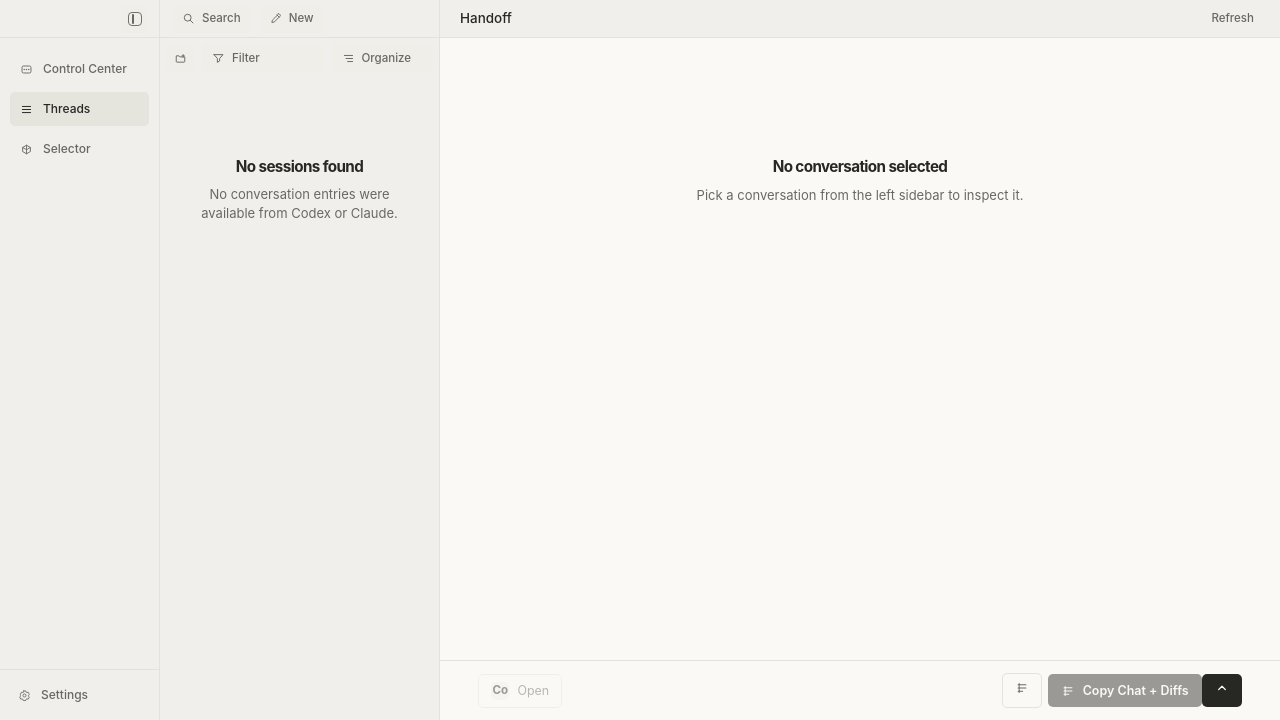
Handoff App › highlights completed unseen rows in the main Control Center and clears the state after open
The width and height of the screenshot is (1280, 720).
Click the button "Control Center": (80, 69) [10,52,149,86]
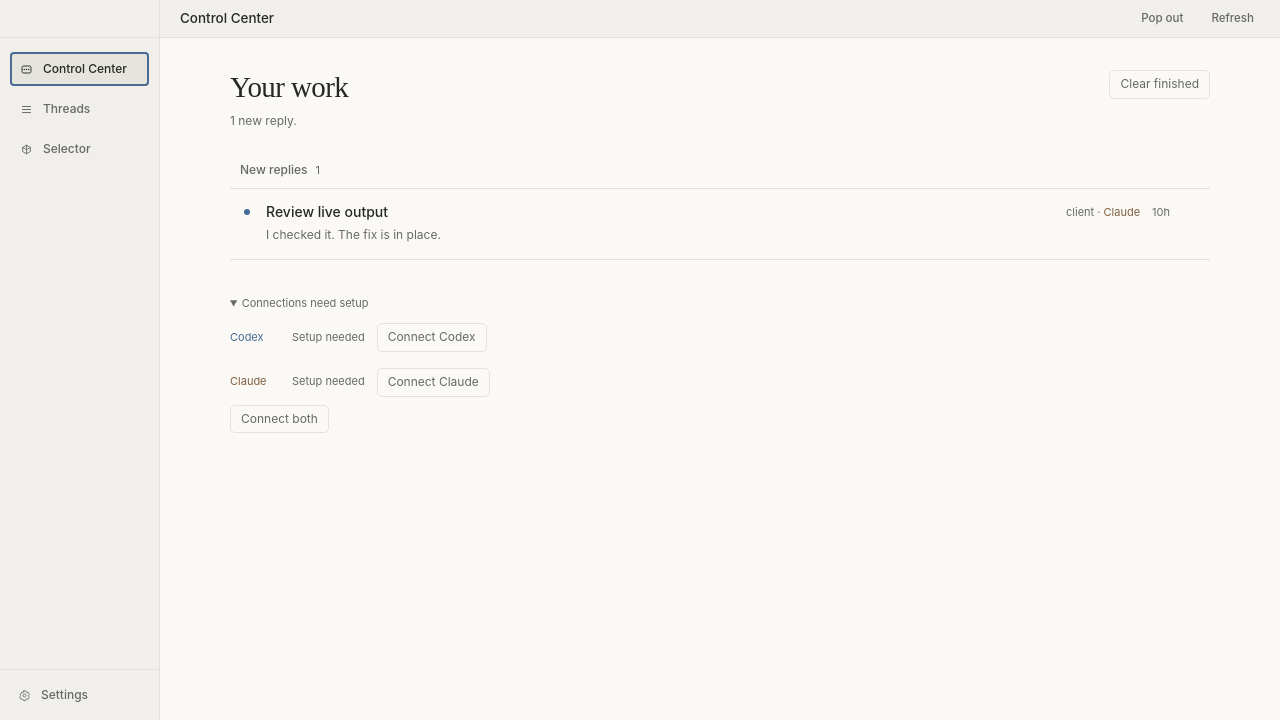
Click the button with aria-label "Open Review live output": (327, 211) [230,189,1210,259]
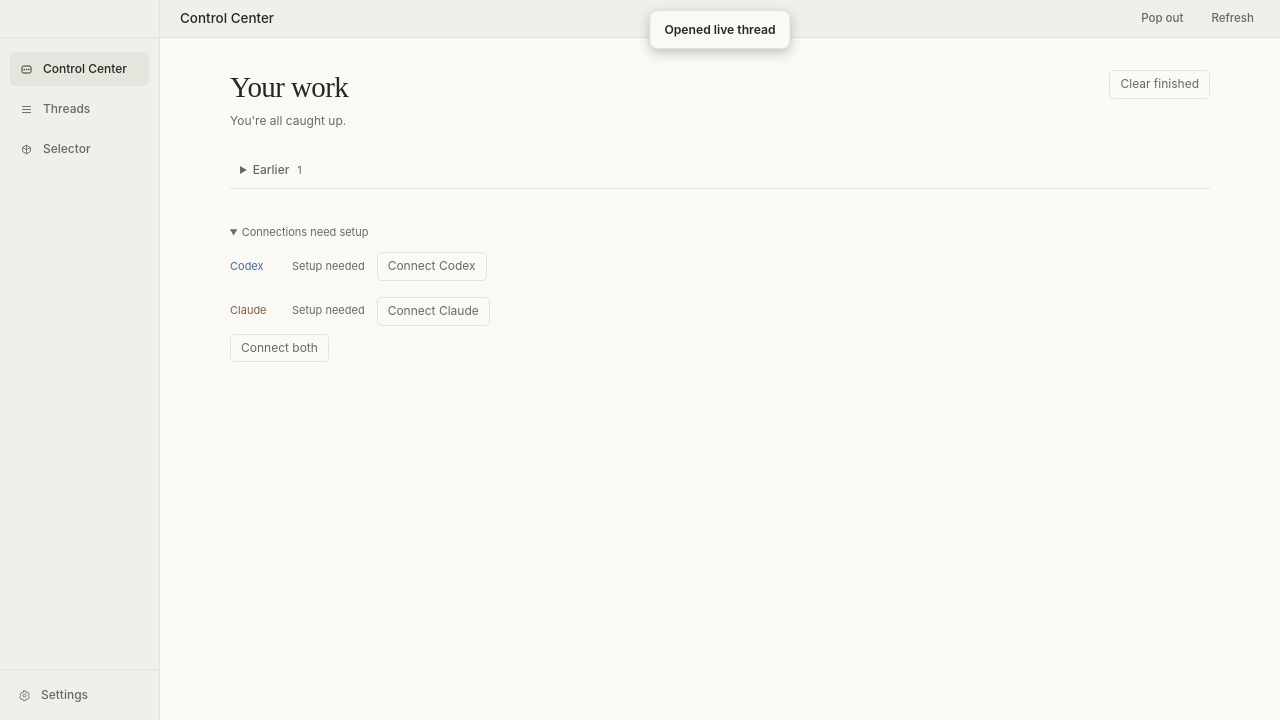
Expected: the element with class "is-completed-unseen" is gone
Expected: the heading "New replies" is gone
